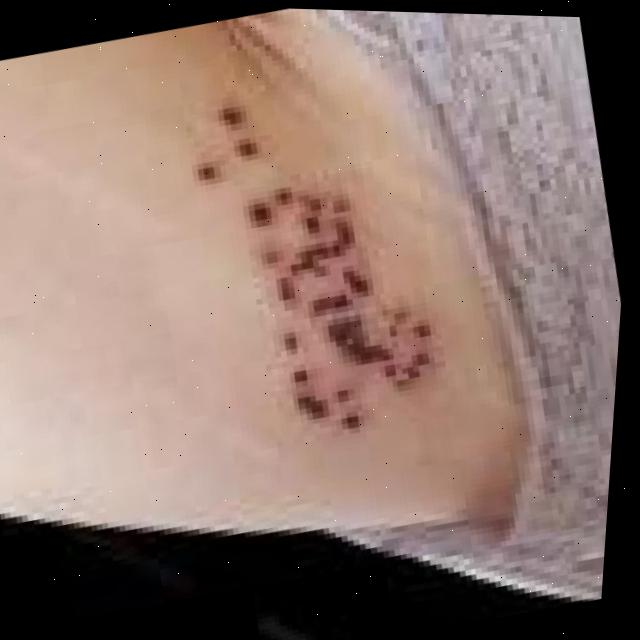Shingles: (162, 68, 466, 468)
